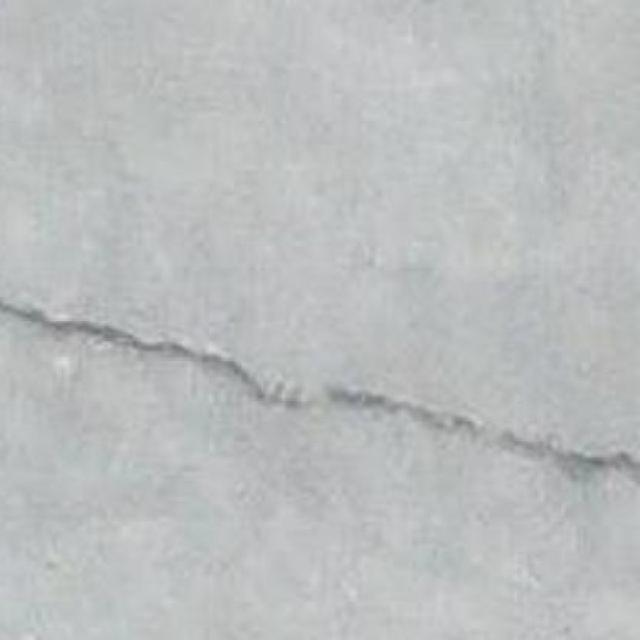Crack: (0, 292, 640, 487)
